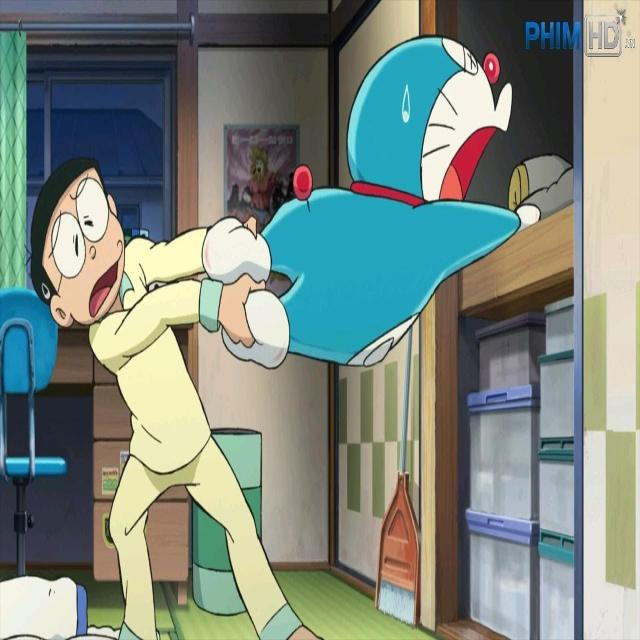doraemon: (342, 26, 516, 233)
nobita: (25, 149, 127, 335)
